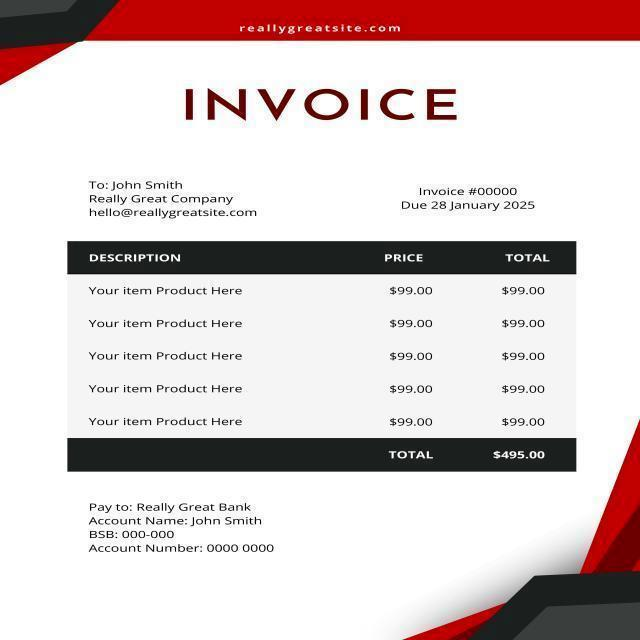paragraph: (84, 494, 290, 582), (174, 78, 469, 133), (82, 166, 277, 227), (391, 174, 568, 218), (381, 438, 568, 472), (227, 17, 428, 44)
table: (64, 237, 593, 438)
